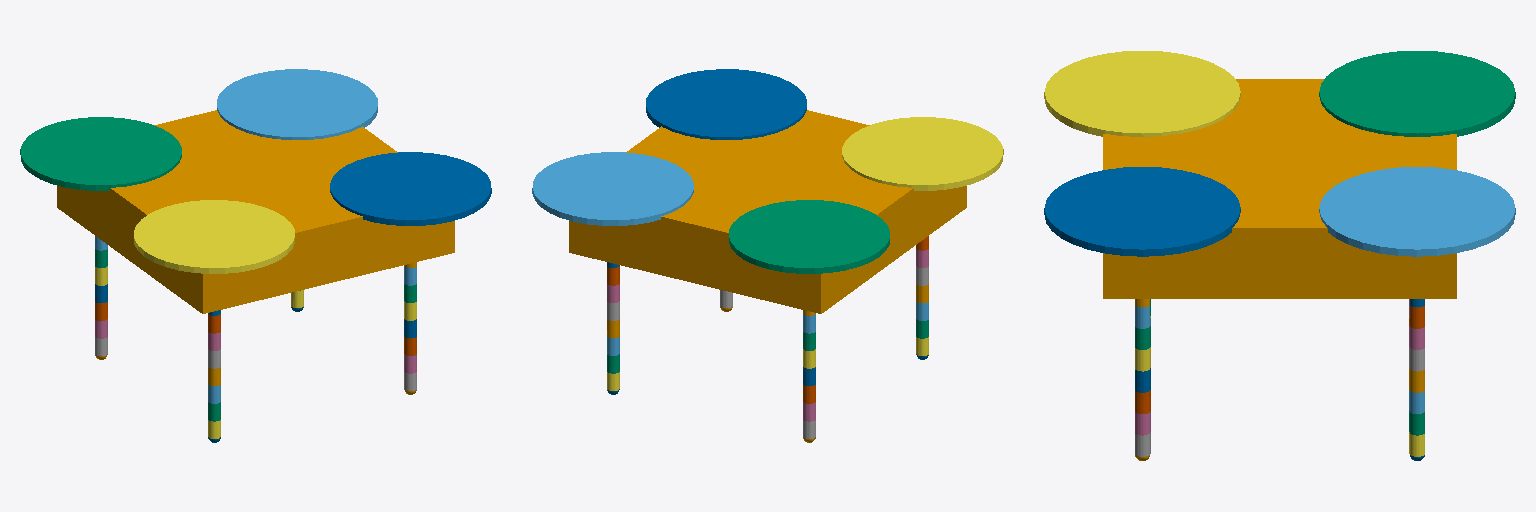
--- What the picture shows (computed from the rendered views, not written in the file) ---
Views: 3 orthographic renders of the robot side by side, from view 1: azimuth 30°, elevation 25°; view 2: azimuth 150°, elevation 25°; view 3: azimuth 270°, elevation 25°.
Robot: drone_w_arms — 57 links, 56 joints (40 revolute, 1 continuous, 3 prismatic, 12 fixed); root link world; default pose: every joint at zero.
Visible links, largest first — view 1: drone_base, drone_prop3, drone_prop4, drone_prop2, drone_prop1; view 2: drone_base, drone_prop2, drone_prop1, drone_prop3, drone_prop4; view 3: drone_base, drone_prop1, drone_prop4, drone_prop2, drone_prop3.
Boxes of the visible links, x1,y1,x2,y2 form: drone_base: (57, 110, 454, 313); drone_prop3: (134, 200, 294, 273); drone_prop4: (330, 152, 491, 225); drone_prop2: (20, 117, 181, 190); drone_prop1: (217, 69, 377, 139); drone_base: (569, 110, 966, 313); drone_prop2: (729, 200, 889, 273); drone_prop1: (532, 152, 693, 225); drone_prop3: (842, 117, 1003, 190); drone_prop4: (646, 69, 806, 139); drone_base: (1103, 79, 1456, 298); drone_prop1: (1319, 167, 1515, 256); drone_prop4: (1044, 167, 1240, 256); drone_prop2: (1319, 51, 1515, 136); drone_prop3: (1044, 51, 1240, 136).
Bounding box of the posed robot: 0.6 × 0.6 × 0.355 m (x, y, z).
Geometry: primitives only (box / cylinder / sphere), no mesh files.

The robot description file, URDF, robot "drone_w_arms":
<?xml version="1.0" ?>
<!-- =================================================================================== -->
<!-- |    This document was autogenerated by xacro from drone_w_arms.xacro             | -->
<!-- |    EDITING THIS FILE BY HAND IS NOT RECOMMENDED                                 | -->
<!-- =================================================================================== -->
<robot name="drone_w_arms">
  <link name="drone_base">
    <visual>
      <origin rpy="0 0 0" xyz="0 0 -0.010000000000000002"/>
      <geometry>
        <box size="0.45 0.45 0.1"/>
      </geometry>
    </visual>
    <collision>
      <origin rpy="0 0 0" xyz="0 0 -0.010000000000000002"/>
      <geometry>
        <box size="0.45 0.45 0.1"/>
      </geometry>
    </collision>
    <inertial>
      <origin rpy="0 0 0" xyz="0 0 0.225"/>
      <mass value="2.0"/>
      <inertia ixx="0.035416666666666666" ixy="0.0" ixz="0.0" iyy="0.035416666666666666" iyz="0.0" izz="0.0675"/>
    </inertial>
  </link>
  <link name="drone_prop1">
    <visual>
      <origin rpy="0 0 0" xyz="0 0 0"/>
      <geometry>
        <cylinder length="0.01" radius="0.125"/>
      </geometry>
    </visual>
    <collision>
      <origin rpy="0 0 0" xyz="0 0 0"/>
      <geometry>
        <cylinder length="0.01" radius="0.125"/>
      </geometry>
    </collision>
    <inertial>
      <origin rpy="0 0 0" xyz="0 0 0"/>
      <mass value="0"/>
      <inertia ixx="0.0" ixy="0.0" ixz="0.0" iyy="0.0" iyz="0.0" izz="0.0"/>
    </inertial>
  </link>
  <link name="drone_prop2">
    <visual>
      <origin rpy="0 0 0" xyz="0 0 0"/>
      <geometry>
        <cylinder length="0.01" radius="0.125"/>
      </geometry>
    </visual>
    <collision>
      <origin rpy="0 0 0" xyz="0 0 0"/>
      <geometry>
        <cylinder length="0.01" radius="0.125"/>
      </geometry>
    </collision>
    <inertial>
      <origin rpy="0 0 0" xyz="0 0 0"/>
      <mass value="0"/>
      <inertia ixx="0.0" ixy="0.0" ixz="0.0" iyy="0.0" iyz="0.0" izz="0.0"/>
    </inertial>
  </link>
  <link name="drone_prop3">
    <visual>
      <origin rpy="0 0 0" xyz="0 0 0"/>
      <geometry>
        <cylinder length="0.01" radius="0.125"/>
      </geometry>
    </visual>
    <collision>
      <origin rpy="0 0 0" xyz="0 0 0"/>
      <geometry>
        <cylinder length="0.01" radius="0.125"/>
      </geometry>
    </collision>
    <inertial>
      <origin rpy="0 0 0" xyz="0 0 0"/>
      <mass value="0"/>
      <inertia ixx="0.0" ixy="0.0" ixz="0.0" iyy="0.0" iyz="0.0" izz="0.0"/>
    </inertial>
  </link>
  <link name="drone_prop4">
    <visual>
      <origin rpy="0 0 0" xyz="0 0 0"/>
      <geometry>
        <cylinder length="0.01" radius="0.125"/>
      </geometry>
    </visual>
    <collision>
      <origin rpy="0 0 0" xyz="0 0 0"/>
      <geometry>
        <cylinder length="0.01" radius="0.125"/>
      </geometry>
    </collision>
    <inertial>
      <origin rpy="0 0 0" xyz="0 0 0"/>
      <mass value="0"/>
      <inertia ixx="0.0" ixy="0.0" ixz="0.0" iyy="0.0" iyz="0.0" izz="0.0"/>
    </inertial>
  </link>
  <joint name="drone_prop1joint" type="fixed">
    <parent link="drone_base"/>
    <child link="drone_prop1"/>
    <origin rpy="0 0 0" xyz="0.175 0.175 0.04"/>
    <!--<limit effort="3000" velocity="10000.0"/>
            <axis xyz="0 0 1" />-->
  </joint>
  <joint name="drone_prop2joint" type="fixed">
    <parent link="drone_base"/>
    <child link="drone_prop2"/>
    <origin rpy="0 0 0" xyz="-0.175 0.175 0.04"/>
    <!--<limit effort="3000" velocity="10000.0"/>
            <axis xyz="0 0 1" />-->
  </joint>
  <joint name="drone_prop3joint" type="fixed">
    <parent link="drone_base"/>
    <child link="drone_prop3"/>
    <origin rpy="0 0 0" xyz="-0.175 -0.175 0.04"/>
    <!--<limit effort="3000" velocity="10000.0"/>
            <axis xyz="0 0 1" />-->
  </joint>
  <joint name="drone_prop4joint" type="fixed">
    <parent link="drone_base"/>
    <child link="drone_prop4"/>
    <origin rpy="0 0 0" xyz="0.175 -0.175 0.04"/>
    <!--<limit effort="3000" velocity="10000.0"/>
            <axis xyz="0 0 1" />-->
  </joint>
  <!-- Define dummy links for motion generation -->
  <link name="world"/>
  <link name="p1"/>
  <link name="p2"/>
  <link name="p3"/>
  <joint name="x_pos" type="prismatic">
    <parent link="world"/>
    <child link="p1"/>
    <axis xyz="1 0 0"/>
    <dynamics damping="0" friction="0.0"/>
    <limit effort="10000" lower="-1000" upper="1000" velocity="100.0"/>
  </joint>
  <joint name="y_pos" type="prismatic">
    <parent link="p1"/>
    <child link="p2"/>
    <axis xyz="0 1 0"/>
    <dynamics damping="0" friction="0.0"/>
    <limit effort="10000" lower="-1000" upper="1000" velocity="100.0"/>
  </joint>
  <joint name="z_pos" type="prismatic">
    <parent link="p2"/>
    <child link="p3"/>
    <axis xyz="0 0 1"/>
    <dynamics damping="0" friction="0.0"/>
    <limit effort="10000" lower="-1000" upper="1000" velocity="100.0"/>
  </joint>
  <joint name="base_joint" type="continuous">
    <parent link="p3"/>
    <child link="drone_base"/>
    <axis xyz="0 0 1"/>
    <dynamics damping="0" friction="0.0"/>
    <limit effort="10000" lower="-1000" upper="1000" velocity="100.0"/>
  </joint>
  <!-- Create the base link -->
  <link name="arm1_base"/>
  <link name="arm1_link_1">
    <visual>
      <geometry>
        <cylinder length="0.03" radius="0.01"/>
      </geometry>
      <origin xyz="0 0 0.015"/>
    </visual>
    <collision>
      <geometry>
        <cylinder length="0.03" radius="0.01"/>
      </geometry>
      <origin xyz="0 0 0.015"/>
    </collision>
    <inertial>
      <mass value="0.09090909090909091"/>
      <inertia ixx="9.090909090909091e-06" ixy="0.0" ixz="0.0" iyy="9.090909090909091e-06" iyz="0.0" izz="4.5454545454545455e-06"/>
    </inertial>
  </link>
  <joint name="arm1_joint_1" type="revolute">
    <parent link="arm1_base"/>
    <child link="arm1_link_1"/>
    <axis xyz="1 0 0"/>
    <origin rpy="3.141 0 -0.7854" xyz=" 0.175  0.175 0"/>
    <limit effort="10.0" lower="-1.57" upper="1.57" velocity="1.0"/>
  </joint>
  <!-- Create the next link -->
  <link name="arm1_link_2">
    <visual>
      <geometry>
        <cylinder length="0.03" radius="0.01"/>
      </geometry>
      <origin xyz="0 0 0.015"/>
    </visual>
    <collision>
      <geometry>
        <cylinder length="0.03" radius="0.01"/>
      </geometry>
      <origin xyz="0 0 0.015"/>
    </collision>
    <inertial>
      <mass value="0.09090909090909091"/>
      <inertia ixx="9.090909090909091e-06" ixy="0.0" ixz="0.0" iyy="9.090909090909091e-06" iyz="0.0" izz="4.5454545454545455e-06"/>
    </inertial>
  </link>
  <!-- Create the revolute joint -->
  <joint name="arm1_joint_2" type="revolute">
    <parent link="arm1_link_1"/>
    <child link="arm1_link_2"/>
    <axis xyz="1 0 0"/>
    <origin rpy="0 0 0" xyz="0 0 0.03"/>
    <limit effort="10.0" lower="-1.57" upper="1.57" velocity="1.0"/>
  </joint>
  <!-- Create the next link -->
  <link name="arm1_link_3">
    <visual>
      <geometry>
        <cylinder length="0.03" radius="0.01"/>
      </geometry>
      <origin xyz="0 0 0.015"/>
    </visual>
    <collision>
      <geometry>
        <cylinder length="0.03" radius="0.01"/>
      </geometry>
      <origin xyz="0 0 0.015"/>
    </collision>
    <inertial>
      <mass value="0.09090909090909091"/>
      <inertia ixx="9.090909090909091e-06" ixy="0.0" ixz="0.0" iyy="9.090909090909091e-06" iyz="0.0" izz="4.5454545454545455e-06"/>
    </inertial>
  </link>
  <!-- Create the revolute joint -->
  <joint name="arm1_joint_3" type="revolute">
    <parent link="arm1_link_2"/>
    <child link="arm1_link_3"/>
    <axis xyz="1 0 0"/>
    <origin rpy="0 0 0" xyz="0 0 0.03"/>
    <limit effort="10.0" lower="-1.57" upper="1.57" velocity="1.0"/>
  </joint>
  <!-- Create the next link -->
  <link name="arm1_link_4">
    <visual>
      <geometry>
        <cylinder length="0.03" radius="0.01"/>
      </geometry>
      <origin xyz="0 0 0.015"/>
    </visual>
    <collision>
      <geometry>
        <cylinder length="0.03" radius="0.01"/>
      </geometry>
      <origin xyz="0 0 0.015"/>
    </collision>
    <inertial>
      <mass value="0.09090909090909091"/>
      <inertia ixx="9.090909090909091e-06" ixy="0.0" ixz="0.0" iyy="9.090909090909091e-06" iyz="0.0" izz="4.5454545454545455e-06"/>
    </inertial>
  </link>
  <!-- Create the revolute joint -->
  <joint name="arm1_joint_4" type="revolute">
    <parent link="arm1_link_3"/>
    <child link="arm1_link_4"/>
    <axis xyz="1 0 0"/>
    <origin rpy="0 0 0" xyz="0 0 0.03"/>
    <limit effort="10.0" lower="-1.57" upper="1.57" velocity="1.0"/>
  </joint>
  <!-- Create the next link -->
  <link name="arm1_link_5">
    <visual>
      <geometry>
        <cylinder length="0.03" radius="0.01"/>
      </geometry>
      <origin xyz="0 0 0.015"/>
    </visual>
    <collision>
      <geometry>
        <cylinder length="0.03" radius="0.01"/>
      </geometry>
      <origin xyz="0 0 0.015"/>
    </collision>
    <inertial>
      <mass value="0.09090909090909091"/>
      <inertia ixx="9.090909090909091e-06" ixy="0.0" ixz="0.0" iyy="9.090909090909091e-06" iyz="0.0" izz="4.5454545454545455e-06"/>
    </inertial>
  </link>
  <!-- Create the revolute joint -->
  <joint name="arm1_joint_5" type="revolute">
    <parent link="arm1_link_4"/>
    <child link="arm1_link_5"/>
    <axis xyz="1 0 0"/>
    <origin rpy="0 0 0" xyz="0 0 0.03"/>
    <limit effort="10.0" lower="-1.57" upper="1.57" velocity="1.0"/>
  </joint>
  <!-- Create the next link -->
  <link name="arm1_link_6">
    <visual>
      <geometry>
        <cylinder length="0.03" radius="0.01"/>
      </geometry>
      <origin xyz="0 0 0.015"/>
    </visual>
    <collision>
      <geometry>
        <cylinder length="0.03" radius="0.01"/>
      </geometry>
      <origin xyz="0 0 0.015"/>
    </collision>
    <inertial>
      <mass value="0.09090909090909091"/>
      <inertia ixx="9.090909090909091e-06" ixy="0.0" ixz="0.0" iyy="9.090909090909091e-06" iyz="0.0" izz="4.5454545454545455e-06"/>
    </inertial>
  </link>
  <!-- Create the revolute joint -->
  <joint name="arm1_joint_6" type="revolute">
    <parent link="arm1_link_5"/>
    <child link="arm1_link_6"/>
    <axis xyz="1 0 0"/>
    <origin rpy="0 0 0" xyz="0 0 0.03"/>
    <limit effort="10.0" lower="-1.57" upper="1.57" velocity="1.0"/>
  </joint>
  <!-- Create the next link -->
  <link name="arm1_link_7">
    <visual>
      <geometry>
        <cylinder length="0.03" radius="0.01"/>
      </geometry>
      <origin xyz="0 0 0.015"/>
    </visual>
    <collision>
      <geometry>
        <cylinder length="0.03" radius="0.01"/>
      </geometry>
      <origin xyz="0 0 0.015"/>
    </collision>
    <inertial>
      <mass value="0.09090909090909091"/>
      <inertia ixx="9.090909090909091e-06" ixy="0.0" ixz="0.0" iyy="9.090909090909091e-06" iyz="0.0" izz="4.5454545454545455e-06"/>
    </inertial>
  </link>
  <!-- Create the revolute joint -->
  <joint name="arm1_joint_7" type="revolute">
    <parent link="arm1_link_6"/>
    <child link="arm1_link_7"/>
    <axis xyz="1 0 0"/>
    <origin rpy="0 0 0" xyz="0 0 0.03"/>
    <limit effort="10.0" lower="-1.57" upper="1.57" velocity="1.0"/>
  </joint>
  <!-- Create the next link -->
  <link name="arm1_link_8">
    <visual>
      <geometry>
        <cylinder length="0.03" radius="0.01"/>
      </geometry>
      <origin xyz="0 0 0.015"/>
    </visual>
    <collision>
      <geometry>
        <cylinder length="0.03" radius="0.01"/>
      </geometry>
      <origin xyz="0 0 0.015"/>
    </collision>
    <inertial>
      <mass value="0.09090909090909091"/>
      <inertia ixx="9.090909090909091e-06" ixy="0.0" ixz="0.0" iyy="9.090909090909091e-06" iyz="0.0" izz="4.5454545454545455e-06"/>
    </inertial>
  </link>
  <!-- Create the revolute joint -->
  <joint name="arm1_joint_8" type="revolute">
    <parent link="arm1_link_7"/>
    <child link="arm1_link_8"/>
    <axis xyz="1 0 0"/>
    <origin rpy="0 0 0" xyz="0 0 0.03"/>
    <limit effort="10.0" lower="-1.57" upper="1.57" velocity="1.0"/>
  </joint>
  <!-- Create the next link -->
  <link name="arm1_link_9">
    <visual>
      <geometry>
        <cylinder length="0.03" radius="0.01"/>
      </geometry>
      <origin xyz="0 0 0.015"/>
    </visual>
    <collision>
      <geometry>
        <cylinder length="0.03" radius="0.01"/>
      </geometry>
      <origin xyz="0 0 0.015"/>
    </collision>
    <inertial>
      <mass value="0.09090909090909091"/>
      <inertia ixx="9.090909090909091e-06" ixy="0.0" ixz="0.0" iyy="9.090909090909091e-06" iyz="0.0" izz="4.5454545454545455e-06"/>
    </inertial>
  </link>
  <!-- Create the revolute joint -->
  <joint name="arm1_joint_9" type="revolute">
    <parent link="arm1_link_8"/>
    <child link="arm1_link_9"/>
    <axis xyz="1 0 0"/>
    <origin rpy="0 0 0" xyz="0 0 0.03"/>
    <limit effort="10.0" lower="-1.57" upper="1.57" velocity="1.0"/>
  </joint>
  <!-- Create the next link -->
  <link name="arm1_link_10">
    <visual>
      <geometry>
        <cylinder length="0.03" radius="0.01"/>
      </geometry>
      <origin xyz="0 0 0.015"/>
    </visual>
    <collision>
      <geometry>
        <cylinder length="0.03" radius="0.01"/>
      </geometry>
      <origin xyz="0 0 0.015"/>
    </collision>
    <inertial>
      <mass value="0.09090909090909091"/>
      <inertia ixx="9.090909090909091e-06" ixy="0.0" ixz="0.0" iyy="9.090909090909091e-06" iyz="0.0" izz="4.5454545454545455e-06"/>
    </inertial>
  </link>
  <!-- Create the revolute joint -->
  <joint name="arm1_joint_10" type="revolute">
    <parent link="arm1_link_9"/>
    <child link="arm1_link_10"/>
    <axis xyz="1 0 0"/>
    <origin rpy="0 0 0" xyz="0 0 0.03"/>
    <limit effort="10.0" lower="-1.57" upper="1.57" velocity="1.0"/>
  </joint>
  <link name="arm1_sphere">
    <visual>
      <geometry>
        <sphere radius="0.01"/>
      </geometry>
      <origin xyz="0 0 0.01"/>
    </visual>
    <collision>
      <geometry>
        <sphere radius="0.01"/>
      </geometry>
      <origin xyz="0 0 0.01"/>
    </collision>
    <inertial>
      <mass value="0.09090909090909091"/>
      <inertia ixx="3.6363636363636366e-06" ixy="0.0" ixz="0.0" iyy="3.6363636363636366e-06" iyz="0.0" izz="3.6363636363636366e-06"/>
    </inertial>
  </link>
  <joint name="arm1_fixed_joint_sphere" type="fixed">
    <parent link="arm1_link_10"/>
    <child link="arm1_sphere"/>
    <origin rpy="0 0 0" xyz="0 0 0.019999999999999997"/>
  </joint>
  <!-- Create the base link -->
  <link name="arm2_base"/>
  <link name="arm2_link_1">
    <visual>
      <geometry>
        <cylinder length="0.03" radius="0.01"/>
      </geometry>
      <origin xyz="0 0 0.015"/>
    </visual>
    <collision>
      <geometry>
        <cylinder length="0.03" radius="0.01"/>
      </geometry>
      <origin xyz="0 0 0.015"/>
    </collision>
    <inertial>
      <mass value="0.09090909090909091"/>
      <inertia ixx="9.090909090909091e-06" ixy="0.0" ixz="0.0" iyy="9.090909090909091e-06" iyz="0.0" izz="4.5454545454545455e-06"/>
    </inertial>
  </link>
  <joint name="arm2_joint_1" type="revolute">
    <parent link="arm2_base"/>
    <child link="arm2_link_1"/>
    <axis xyz="1 0 0"/>
    <origin rpy="3.141 0 -2.3562" xyz=" 0.175 -0.175 0"/>
    <limit effort="10.0" lower="-1.57" upper="1.57" velocity="1.0"/>
  </joint>
  <!-- Create the next link -->
  <link name="arm2_link_2">
    <visual>
      <geometry>
        <cylinder length="0.03" radius="0.01"/>
      </geometry>
      <origin xyz="0 0 0.015"/>
    </visual>
    <collision>
      <geometry>
        <cylinder length="0.03" radius="0.01"/>
      </geometry>
      <origin xyz="0 0 0.015"/>
    </collision>
    <inertial>
      <mass value="0.09090909090909091"/>
      <inertia ixx="9.090909090909091e-06" ixy="0.0" ixz="0.0" iyy="9.090909090909091e-06" iyz="0.0" izz="4.5454545454545455e-06"/>
    </inertial>
  </link>
  <!-- Create the revolute joint -->
  <joint name="arm2_joint_2" type="revolute">
    <parent link="arm2_link_1"/>
    <child link="arm2_link_2"/>
    <axis xyz="1 0 0"/>
    <origin rpy="0 0 0" xyz="0 0 0.03"/>
    <limit effort="10.0" lower="-1.57" upper="1.57" velocity="1.0"/>
  </joint>
  <!-- Create the next link -->
  <link name="arm2_link_3">
    <visual>
      <geometry>
        <cylinder length="0.03" radius="0.01"/>
      </geometry>
      <origin xyz="0 0 0.015"/>
    </visual>
    <collision>
      <geometry>
        <cylinder length="0.03" radius="0.01"/>
      </geometry>
      <origin xyz="0 0 0.015"/>
    </collision>
    <inertial>
      <mass value="0.09090909090909091"/>
      <inertia ixx="9.090909090909091e-06" ixy="0.0" ixz="0.0" iyy="9.090909090909091e-06" iyz="0.0" izz="4.5454545454545455e-06"/>
    </inertial>
  </link>
  <!-- Create the revolute joint -->
  <joint name="arm2_joint_3" type="revolute">
    <parent link="arm2_link_2"/>
    <child link="arm2_link_3"/>
    <axis xyz="1 0 0"/>
    <origin rpy="0 0 0" xyz="0 0 0.03"/>
    <limit effort="10.0" lower="-1.57" upper="1.57" velocity="1.0"/>
  </joint>
  <!-- Create the next link -->
  <link name="arm2_link_4">
    <visual>
      <geometry>
        <cylinder length="0.03" radius="0.01"/>
      </geometry>
      <origin xyz="0 0 0.015"/>
    </visual>
    <collision>
      <geometry>
        <cylinder length="0.03" radius="0.01"/>
      </geometry>
      <origin xyz="0 0 0.015"/>
    </collision>
    <inertial>
      <mass value="0.09090909090909091"/>
      <inertia ixx="9.090909090909091e-06" ixy="0.0" ixz="0.0" iyy="9.090909090909091e-06" iyz="0.0" izz="4.5454545454545455e-06"/>
    </inertial>
  </link>
  <!-- Create the revolute joint -->
  <joint name="arm2_joint_4" type="revolute">
    <parent link="arm2_link_3"/>
    <child link="arm2_link_4"/>
    <axis xyz="1 0 0"/>
    <origin rpy="0 0 0" xyz="0 0 0.03"/>
    <limit effort="10.0" lower="-1.57" upper="1.57" velocity="1.0"/>
  </joint>
  <!-- Create the next link -->
  <link name="arm2_link_5">
    <visual>
      <geometry>
        <cylinder length="0.03" radius="0.01"/>
      </geometry>
      <origin xyz="0 0 0.015"/>
    </visual>
    <collision>
      <geometry>
        <cylinder length="0.03" radius="0.01"/>
      </geometry>
      <origin xyz="0 0 0.015"/>
    </collision>
    <inertial>
      <mass value="0.09090909090909091"/>
      <inertia ixx="9.090909090909091e-06" ixy="0.0" ixz="0.0" iyy="9.090909090909091e-06" iyz="0.0" izz="4.5454545454545455e-06"/>
    </inertial>
  </link>
  <!-- Create the revolute joint -->
  <joint name="arm2_joint_5" type="revolute">
    <parent link="arm2_link_4"/>
    <child link="arm2_link_5"/>
    <axis xyz="1 0 0"/>
    <origin rpy="0 0 0" xyz="0 0 0.03"/>
    <limit effort="10.0" lower="-1.57" upper="1.57" velocity="1.0"/>
  </joint>
  <!-- Create the next link -->
  <link name="arm2_link_6">
    <visual>
      <geometry>
        <cylinder length="0.03" radius="0.01"/>
      </geometry>
      <origin xyz="0 0 0.015"/>
    </visual>
    <collision>
      <geometry>
        <cylinder length="0.03" radius="0.01"/>
      </geometry>
      <origin xyz="0 0 0.015"/>
    </collision>
    <inertial>
      <mass value="0.09090909090909091"/>
      <inertia ixx="9.090909090909091e-06" ixy="0.0" ixz="0.0" iyy="9.090909090909091e-06" iyz="0.0" izz="4.5454545454545455e-06"/>
    </inertial>
  </link>
  <!-- Create the revolute joint -->
  <joint name="arm2_joint_6" type="revolute">
    <parent link="arm2_link_5"/>
    <child link="arm2_link_6"/>
    <axis xyz="1 0 0"/>
    <origin rpy="0 0 0" xyz="0 0 0.03"/>
    <limit effort="10.0" lower="-1.57" upper="1.57" velocity="1.0"/>
  </joint>
  <!-- Create the next link -->
  <link name="arm2_link_7">
    <visual>
      <geometry>
        <cylinder length="0.03" radius="0.01"/>
      </geometry>
      <origin xyz="0 0 0.015"/>
    </visual>
    <collision>
      <geometry>
        <cylinder length="0.03" radius="0.01"/>
      </geometry>
      <origin xyz="0 0 0.015"/>
    </collision>
    <inertial>
      <mass value="0.09090909090909091"/>
      <inertia ixx="9.090909090909091e-06" ixy="0.0" ixz="0.0" iyy="9.090909090909091e-06" iyz="0.0" izz="4.5454545454545455e-06"/>
    </inertial>
  </link>
  <!-- Create the revolute joint -->
  <joint name="arm2_joint_7" type="revolute">
    <parent link="arm2_link_6"/>
    <child link="arm2_link_7"/>
    <axis xyz="1 0 0"/>
    <origin rpy="0 0 0" xyz="0 0 0.03"/>
    <limit effort="10.0" lower="-1.57" upper="1.57" velocity="1.0"/>
  </joint>
  <!-- Create the next link -->
  <link name="arm2_link_8">
    <visual>
      <geometry>
        <cylinder length="0.03" radius="0.01"/>
      </geometry>
      <origin xyz="0 0 0.015"/>
    </visual>
    <collision>
      <geometry>
        <cylinder length="0.03" radius="0.01"/>
      </geometry>
      <origin xyz="0 0 0.015"/>
    </collision>
    <inertial>
      <mass value="0.09090909090909091"/>
      <inertia ixx="9.090909090909091e-06" ixy="0.0" ixz="0.0" iyy="9.090909090909091e-06" iyz="0.0" izz="4.5454545454545455e-06"/>
    </inertial>
  </link>
  <!-- Create the revolute joint -->
  <joint name="arm2_joint_8" type="revolute">
    <parent link="arm2_link_7"/>
    <child link="arm2_link_8"/>
    <axis xyz="1 0 0"/>
    <origin rpy="0 0 0" xyz="0 0 0.03"/>
    <limit effort="10.0" lower="-1.57" upper="1.57" velocity="1.0"/>
  </joint>
  <!-- Create the next link -->
  <link name="arm2_link_9">
    <visual>
      <geometry>
        <cylinder length="0.03" radius="0.01"/>
      </geometry>
      <origin xyz="0 0 0.015"/>
    </visual>
    <collision>
      <geometry>
        <cylinder length="0.03" radius="0.01"/>
      </geometry>
      <origin xyz="0 0 0.015"/>
    </collision>
    <inertial>
      <mass value="0.09090909090909091"/>
      <inertia ixx="9.090909090909091e-06" ixy="0.0" ixz="0.0" iyy="9.090909090909091e-06" iyz="0.0" izz="4.5454545454545455e-06"/>
    </inertial>
  </link>
  <!-- Create the revolute joint -->
  <joint name="arm2_joint_9" type="revolute">
    <parent link="arm2_link_8"/>
    <child link="arm2_link_9"/>
    <axis xyz="1 0 0"/>
    <origin rpy="0 0 0" xyz="0 0 0.03"/>
    <limit effort="10.0" lower="-1.57" upper="1.57" velocity="1.0"/>
  </joint>
  <!-- Create the next link -->
  <link name="arm2_link_10">
    <visual>
      <geometry>
        <cylinder length="0.03" radius="0.01"/>
      </geometry>
      <origin xyz="0 0 0.015"/>
    </visual>
    <collision>
      <geometry>
        <cylinder length="0.03" radius="0.01"/>
      </geometry>
      <origin xyz="0 0 0.015"/>
    </collision>
    <inertial>
      <mass value="0.09090909090909091"/>
      <inertia ixx="9.090909090909091e-06" ixy="0.0" ixz="0.0" iyy="9.090909090909091e-06" iyz="0.0" izz="4.5454545454545455e-06"/>
    </inertial>
  </link>
  <!-- Create the revolute joint -->
  <joint name="arm2_joint_10" type="revolute">
    <parent link="arm2_link_9"/>
    <child link="arm2_link_10"/>
    <axis xyz="1 0 0"/>
    <origin rpy="0 0 0" xyz="0 0 0.03"/>
    <limit effort="10.0" lower="-1.57" upper="1.57" velocity="1.0"/>
  </joint>
  <link name="arm2_sphere">
    <visual>
      <geometry>
        <sphere radius="0.01"/>
      </geometry>
      <origin xyz="0 0 0.01"/>
    </visual>
    <collision>
      <geometry>
        <sphere radius="0.01"/>
      </geometry>
      <origin xyz="0 0 0.01"/>
    </collision>
    <inertial>
      <mass value="0.09090909090909091"/>
      <inertia ixx="3.6363636363636366e-06" ixy="0.0" ixz="0.0" iyy="3.6363636363636366e-06" iyz="0.0" izz="3.6363636363636366e-06"/>
    </inertial>
  </link>
  <joint name="arm2_fixed_joint_sphere" type="fixed">
    <parent link="arm2_link_10"/>
    <child link="arm2_sphere"/>
    <origin rpy="0 0 0" xyz="0 0 0.019999999999999997"/>
  </joint>
  <!-- Create the base link -->
  <link name="arm3_base"/>
  <link name="arm3_link_1">
    <visual>
      <geometry>
        <cylinder length="0.03" radius="0.01"/>
      </geometry>
      <origin xyz="0 0 0.015"/>
    </visual>
    <collision>
      <geometry>
        <cylinder length="0.03" radius="0.01"/>
      </geometry>
      <origin xyz="0 0 0.015"/>
    </collision>
    <inertial>
      <mass value="0.09090909090909091"/>
      <inertia ixx="9.090909090909091e-06" ixy="0.0" ixz="0.0" iyy="9.090909090909091e-06" iyz="0.0" izz="4.5454545454545455e-06"/>
    </inertial>
  </link>
  <joint name="arm3_joint_1" type="revolute">
    <parent link="arm3_base"/>
    <child link="arm3_link_1"/>
    <axis xyz="1 0 0"/>
    <origin rpy="3.141 0 2.3562" xyz="-0.175 -0.175 0"/>
    <limit effort="10.0" lower="-1.57" upper="1.57" velocity="1.0"/>
  </joint>
  <!-- Create the next link -->
  <link name="arm3_link_2">
    <visual>
      <geometry>
        <cylinder length="0.03" radius="0.01"/>
      </geometry>
      <origin xyz="0 0 0.015"/>
    </visual>
    <collision>
      <geometry>
        <cylinder length="0.03" radius="0.01"/>
      </geometry>
      <origin xyz="0 0 0.015"/>
    </collision>
    <inertial>
      <mass value="0.09090909090909091"/>
      <inertia ixx="9.090909090909091e-06" ixy="0.0" ixz="0.0" iyy="9.090909090909091e-06" iyz="0.0" izz="4.5454545454545455e-06"/>
    </inertial>
  </link>
  <!-- Create the revolute joint -->
  <joint name="arm3_joint_2" type="revolute">
    <parent link="arm3_link_1"/>
    <child link="arm3_link_2"/>
    <axis xyz="1 0 0"/>
    <origin rpy="0 0 0" xyz="0 0 0.03"/>
    <limit effort="10.0" lower="-1.57" upper="1.57" velocity="1.0"/>
  </joint>
  <!-- Create the next link -->
  <link name="arm3_link_3">
    <visual>
      <geometry>
        <cylinder length="0.03" radius="0.01"/>
      </geometry>
      <origin xyz="0 0 0.015"/>
    </visual>
    <collision>
      <geometry>
        <cylinder length="0.03" radius="0.01"/>
      </geometry>
      <origin xyz="0 0 0.015"/>
    </collision>
    <inertial>
      <mass value="0.09090909090909091"/>
      <inertia ixx="9.090909090909091e-06" ixy="0.0" ixz="0.0" iyy="9.090909090909091e-06" iyz="0.0" izz="4.5454545454545455e-06"/>
    </inertial>
  </link>
  <!-- Create the revolute joint -->
  <joint name="arm3_joint_3" type="revolute">
    <parent link="arm3_link_2"/>
    <child link="arm3_link_3"/>
    <axis xyz="1 0 0"/>
    <origin rpy="0 0 0" xyz="0 0 0.03"/>
    <limit effort="10.0" lower="-1.57" upper="1.57" velocity="1.0"/>
  </joint>
  <!-- Create the next link -->
  <link name="arm3_link_4">
    <visual>
      <geometry>
        <cylinder length="0.03" radius="0.01"/>
      </geometry>
      <origin xyz="0 0 0.015"/>
    </visual>
    <collision>
      <geometry>
        <cylinder length="0.03" radius="0.01"/>
      </geometry>
      <origin xyz="0 0 0.015"/>
    </collision>
    <inertial>
      <mass value="0.09090909090909091"/>
      <inertia ixx="9.090909090909091e-06" ixy="0.0" ixz="0.0" iyy="9.090909090909091e-06" iyz="0.0" izz="4.5454545454545455e-06"/>
    </inertial>
  </link>
  <!-- Create the revolute joint -->
  <joint name="arm3_joint_4" type="revolute">
    <parent link="arm3_link_3"/>
    <child link="arm3_link_4"/>
    <axis xyz="1 0 0"/>
    <origin rpy="0 0 0" xyz="0 0 0.03"/>
    <limit effort="10.0" lower="-1.57" upper="1.57" velocity="1.0"/>
  </joint>
  <!-- Create the next link -->
  <link name="arm3_link_5">
    <visual>
      <geometry>
        <cylinder length="0.03" radius="0.01"/>
      </geometry>
      <origin xyz="0 0 0.015"/>
    </visual>
    <collision>
      <geometry>
        <cylinder length="0.03" radius="0.01"/>
      </geometry>
      <origin xyz="0 0 0.015"/>
    </collision>
    <inertial>
      <mass value="0.09090909090909091"/>
      <inertia ixx="9.090909090909091e-06" ixy="0.0" ixz="0.0" iyy="9.090909090909091e-06" iyz="0.0" izz="4.5454545454545455e-06"/>
    </inertial>
  </link>
  <!-- Create the revolute joint -->
  <joint name="arm3_joint_5" type="revolute">
    <parent link="arm3_link_4"/>
    <child link="arm3_link_5"/>
    <axis xyz="1 0 0"/>
    <origin rpy="0 0 0" xyz="0 0 0.03"/>
    <limit effort="10.0" lower="-1.57" upper="1.57" velocity="1.0"/>
  </joint>
  <!-- Create the next link -->
  <link name="arm3_link_6">
    <visual>
      <geometry>
        <cylinder length="0.03" radius="0.01"/>
      </geometry>
      <origin xyz="0 0 0.015"/>
    </visual>
    <collision>
      <geometry>
        <cylinder length="0.03" radius="0.01"/>
      </geometry>
      <origin xyz="0 0 0.015"/>
    </collision>
    <inertial>
      <mass value="0.09090909090909091"/>
      <inertia ixx="9.090909090909091e-06" ixy="0.0" ixz="0.0" iyy="9.090909090909091e-06" iyz="0.0" izz="4.5454545454545455e-06"/>
    </inertial>
  </link>
  <!-- Create the revolute joint -->
  <joint name="arm3_joint_6" type="revolute">
    <parent link="arm3_link_5"/>
    <child link="arm3_link_6"/>
    <axis xyz="1 0 0"/>
    <origin rpy="0 0 0" xyz="0 0 0.03"/>
    <limit effort="10.0" lower="-1.57" upper="1.57" velocity="1.0"/>
  </joint>
  <!-- Create the next link -->
  <link name="arm3_link_7">
    <visual>
      <geometry>
        <cylinder length="0.03" radius="0.01"/>
      </geometry>
      <origin xyz="0 0 0.015"/>
    </visual>
    <collision>
      <geometry>
        <cylinder length="0.03" radius="0.01"/>
      </geometry>
      <origin xyz="0 0 0.015"/>
    </collision>
    <inertial>
      <mass value="0.09090909090909091"/>
      <inertia ixx="9.090909090909091e-06" ixy="0.0" ixz="0.0" iyy="9.090909090909091e-06" iyz="0.0" izz="4.5454545454545455e-06"/>
    </inertial>
  </link>
  <!-- Create the revolute joint -->
  <joint name="arm3_joint_7" type="revolute">
    <parent link="arm3_link_6"/>
    <child link="arm3_link_7"/>
    <axis xyz="1 0 0"/>
    <origin rpy="0 0 0" xyz="0 0 0.03"/>
    <limit effort="10.0" lower="-1.57" upper="1.57" velocity="1.0"/>
  </joint>
  <!-- Create the next link -->
  <link name="arm3_link_8">
    <visual>
      <geometry>
        <cylinder length="0.03" radius="0.01"/>
      </geometry>
      <origin xyz="0 0 0.015"/>
    </visual>
    <collision>
      <geometry>
        <cylinder length="0.03" radius="0.01"/>
      </geometry>
      <origin xyz="0 0 0.015"/>
    </collision>
    <inertial>
      <mass value="0.09090909090909091"/>
      <inertia ixx="9.090909090909091e-06" ixy="0.0" ixz="0.0" iyy="9.090909090909091e-06" iyz="0.0" izz="4.5454545454545455e-06"/>
    </inertial>
  </link>
  <!-- Create the revolute joint -->
  <joint name="arm3_joint_8" type="revolute">
    <parent link="arm3_link_7"/>
    <child link="arm3_link_8"/>
    <axis xyz="1 0 0"/>
    <origin rpy="0 0 0" xyz="0 0 0.03"/>
    <limit effort="10.0" lower="-1.57" upper="1.57" velocity="1.0"/>
  </joint>
  <!-- Create the next link -->
  <link name="arm3_link_9">
    <visual>
      <geometry>
        <cylinder length="0.03" radius="0.01"/>
      </geometry>
      <origin xyz="0 0 0.015"/>
    </visual>
    <collision>
      <geometry>
        <cylinder length="0.03" radius="0.01"/>
      </geometry>
      <origin xyz="0 0 0.015"/>
    </collision>
    <inertial>
      <mass value="0.09090909090909091"/>
      <inertia ixx="9.090909090909091e-06" ixy="0.0" ixz="0.0" iyy="9.090909090909091e-06" iyz="0.0" izz="4.5454545454545455e-06"/>
    </inertial>
  </link>
  <!-- Create the revolute joint -->
  <joint name="arm3_joint_9" type="revolute">
    <parent link="arm3_link_8"/>
    <child link="arm3_link_9"/>
    <axis xyz="1 0 0"/>
    <origin rpy="0 0 0" xyz="0 0 0.03"/>
    <limit effort="10.0" lower="-1.57" upper="1.57" velocity="1.0"/>
  </joint>
  <!-- Create the next link -->
  <link name="arm3_link_10">
    <visual>
      <geometry>
        <cylinder length="0.03" radius="0.01"/>
      </geometry>
      <origin xyz="0 0 0.015"/>
    </visual>
    <collision>
      <geometry>
        <cylinder length="0.03" radius="0.01"/>
      </geometry>
      <origin xyz="0 0 0.015"/>
    </collision>
    <inertial>
      <mass value="0.09090909090909091"/>
      <inertia ixx="9.090909090909091e-06" ixy="0.0" ixz="0.0" iyy="9.090909090909091e-06" iyz="0.0" izz="4.5454545454545455e-06"/>
    </inertial>
  </link>
  <!-- Create the revolute joint -->
  <joint name="arm3_joint_10" type="revolute">
    <parent link="arm3_link_9"/>
    <child link="arm3_link_10"/>
    <axis xyz="1 0 0"/>
    <origin rpy="0 0 0" xyz="0 0 0.03"/>
    <limit effort="10.0" lower="-1.57" upper="1.57" velocity="1.0"/>
  </joint>
  <link name="arm3_sphere">
    <visual>
      <geometry>
        <sphere radius="0.01"/>
      </geometry>
      <origin xyz="0 0 0.01"/>
    </visual>
    <collision>
      <geometry>
        <sphere radius="0.01"/>
      </geometry>
      <origin xyz="0 0 0.01"/>
    </collision>
    <inertial>
      <mass value="0.09090909090909091"/>
      <inertia ixx="3.6363636363636366e-06" ixy="0.0" ixz="0.0" iyy="3.6363636363636366e-06" iyz="0.0" izz="3.6363636363636366e-06"/>
    </inertial>
  </link>
  <joint name="arm3_fixed_joint_sphere" type="fixed">
    <parent link="arm3_link_10"/>
    <child link="arm3_sphere"/>
    <origin rpy="0 0 0" xyz="0 0 0.019999999999999997"/>
  </joint>
  <!-- Create the base link -->
  <link name="arm4_base"/>
  <link name="arm4_link_1">
    <visual>
      <geometry>
        <cylinder length="0.03" radius="0.01"/>
      </geometry>
      <origin xyz="0 0 0.015"/>
    </visual>
    <collision>
      <geometry>
        <cylinder length="0.03" radius="0.01"/>
      </geometry>
      <origin xyz="0 0 0.015"/>
    </collision>
    <inertial>
      <mass value="0.09090909090909091"/>
      <inertia ixx="9.090909090909091e-06" ixy="0.0" ixz="0.0" iyy="9.090909090909091e-06" iyz="0.0" izz="4.5454545454545455e-06"/>
    </inertial>
  </link>
  <joint name="arm4_joint_1" type="revolute">
    <parent link="arm4_base"/>
    <child link="arm4_link_1"/>
    <axis xyz="1 0 0"/>
    <origin rpy="3.141 0 0.7854" xyz="-0.175  0.175 0"/>
    <limit effort="10.0" lower="-1.57" upper="1.57" velocity="1.0"/>
  </joint>
  <!-- Create the next link -->
  <link name="arm4_link_2">
    <visual>
      <geometry>
        <cylinder length="0.03" radius="0.01"/>
      </geometry>
      <origin xyz="0 0 0.015"/>
    </visual>
    <collision>
      <geometry>
        <cylinder length="0.03" radius="0.01"/>
      </geometry>
      <origin xyz="0 0 0.015"/>
    </collision>
    <inertial>
      <mass value="0.09090909090909091"/>
      <inertia ixx="9.090909090909091e-06" ixy="0.0" ixz="0.0" iyy="9.090909090909091e-06" iyz="0.0" izz="4.5454545454545455e-06"/>
    </inertial>
  </link>
  <!-- Create the revolute joint -->
  <joint name="arm4_joint_2" type="revolute">
    <parent link="arm4_link_1"/>
    <child link="arm4_link_2"/>
    <axis xyz="1 0 0"/>
    <origin rpy="0 0 0" xyz="0 0 0.03"/>
    <limit effort="10.0" lower="-1.57" upper="1.57" velocity="1.0"/>
  </joint>
  <!-- Create the next link -->
  <link name="arm4_link_3">
    <visual>
      <geometry>
        <cylinder length="0.03" radius="0.01"/>
      </geometry>
      <origin xyz="0 0 0.015"/>
    </visual>
    <collision>
      <geometry>
        <cylinder length="0.03" radius="0.01"/>
      </geometry>
      <origin xyz="0 0 0.015"/>
    </collision>
    <inertial>
      <mass value="0.09090909090909091"/>
      <inertia ixx="9.090909090909091e-06" ixy="0.0" ixz="0.0" iyy="9.090909090909091e-06" iyz="0.0" izz="4.5454545454545455e-06"/>
    </inertial>
  </link>
  <!-- Create the revolute joint -->
  <joint name="arm4_joint_3" type="revolute">
    <parent link="arm4_link_2"/>
    <child link="arm4_link_3"/>
    <axis xyz="1 0 0"/>
    <origin rpy="0 0 0" xyz="0 0 0.03"/>
    <limit effort="10.0" lower="-1.57" upper="1.57" velocity="1.0"/>
  </joint>
  <!-- Create the next link -->
  <link name="arm4_link_4">
    <visual>
      <geometry>
        <cylinder length="0.03" radius="0.01"/>
      </geometry>
      <origin xyz="0 0 0.015"/>
    </visual>
    <collision>
      <geometry>
        <cylinder length="0.03" radius="0.01"/>
      </geometry>
      <origin xyz="0 0 0.015"/>
    </collision>
    <inertial>
      <mass value="0.09090909090909091"/>
      <inertia ixx="9.090909090909091e-06" ixy="0.0" ixz="0.0" iyy="9.090909090909091e-06" iyz="0.0" izz="4.5454545454545455e-06"/>
    </inertial>
  </link>
  <!-- Create the revolute joint -->
  <joint name="arm4_joint_4" type="revolute">
    <parent link="arm4_link_3"/>
    <child link="arm4_link_4"/>
    <axis xyz="1 0 0"/>
    <origin rpy="0 0 0" xyz="0 0 0.03"/>
    <limit effort="10.0" lower="-1.57" upper="1.57" velocity="1.0"/>
  </joint>
  <!-- Create the next link -->
  <link name="arm4_link_5">
    <visual>
      <geometry>
        <cylinder length="0.03" radius="0.01"/>
      </geometry>
      <origin xyz="0 0 0.015"/>
    </visual>
    <collision>
      <geometry>
        <cylinder length="0.03" radius="0.01"/>
      </geometry>
      <origin xyz="0 0 0.015"/>
    </collision>
    <inertial>
      <mass value="0.09090909090909091"/>
      <inertia ixx="9.090909090909091e-06" ixy="0.0" ixz="0.0" iyy="9.090909090909091e-06" iyz="0.0" izz="4.5454545454545455e-06"/>
    </inertial>
  </link>
  <!-- Create the revolute joint -->
  <joint name="arm4_joint_5" type="revolute">
    <parent link="arm4_link_4"/>
    <child link="arm4_link_5"/>
    <axis xyz="1 0 0"/>
    <origin rpy="0 0 0" xyz="0 0 0.03"/>
    <limit effort="10.0" lower="-1.57" upper="1.57" velocity="1.0"/>
  </joint>
  <!-- Create the next link -->
  <link name="arm4_link_6">
    <visual>
      <geometry>
        <cylinder length="0.03" radius="0.01"/>
      </geometry>
      <origin xyz="0 0 0.015"/>
    </visual>
    <collision>
      <geometry>
        <cylinder length="0.03" radius="0.01"/>
      </geometry>
      <origin xyz="0 0 0.015"/>
    </collision>
    <inertial>
      <mass value="0.09090909090909091"/>
      <inertia ixx="9.090909090909091e-06" ixy="0.0" ixz="0.0" iyy="9.090909090909091e-06" iyz="0.0" izz="4.5454545454545455e-06"/>
    </inertial>
  </link>
  <!-- Create the revolute joint -->
  <joint name="arm4_joint_6" type="revolute">
    <parent link="arm4_link_5"/>
    <child link="arm4_link_6"/>
    <axis xyz="1 0 0"/>
    <origin rpy="0 0 0" xyz="0 0 0.03"/>
    <limit effort="10.0" lower="-1.57" upper="1.57" velocity="1.0"/>
  </joint>
  <!-- Create the next link -->
  <link name="arm4_link_7">
    <visual>
      <geometry>
        <cylinder length="0.03" radius="0.01"/>
      </geometry>
      <origin xyz="0 0 0.015"/>
    </visual>
    <collision>
      <geometry>
        <cylinder length="0.03" radius="0.01"/>
      </geometry>
      <origin xyz="0 0 0.015"/>
    </collision>
    <inertial>
      <mass value="0.09090909090909091"/>
      <inertia ixx="9.090909090909091e-06" ixy="0.0" ixz="0.0" iyy="9.090909090909091e-06" iyz="0.0" izz="4.5454545454545455e-06"/>
    </inertial>
  </link>
  <!-- Create the revolute joint -->
  <joint name="arm4_joint_7" type="revolute">
    <parent link="arm4_link_6"/>
    <child link="arm4_link_7"/>
    <axis xyz="1 0 0"/>
    <origin rpy="0 0 0" xyz="0 0 0.03"/>
    <limit effort="10.0" lower="-1.57" upper="1.57" velocity="1.0"/>
  </joint>
  <!-- Create the next link -->
  <link name="arm4_link_8">
    <visual>
      <geometry>
        <cylinder length="0.03" radius="0.01"/>
      </geometry>
      <origin xyz="0 0 0.015"/>
    </visual>
    <collision>
      <geometry>
        <cylinder length="0.03" radius="0.01"/>
      </geometry>
      <origin xyz="0 0 0.015"/>
    </collision>
    <inertial>
      <mass value="0.09090909090909091"/>
      <inertia ixx="9.090909090909091e-06" ixy="0.0" ixz="0.0" iyy="9.090909090909091e-06" iyz="0.0" izz="4.5454545454545455e-06"/>
    </inertial>
  </link>
  <!-- Create the revolute joint -->
  <joint name="arm4_joint_8" type="revolute">
    <parent link="arm4_link_7"/>
    <child link="arm4_link_8"/>
    <axis xyz="1 0 0"/>
    <origin rpy="0 0 0" xyz="0 0 0.03"/>
    <limit effort="10.0" lower="-1.57" upper="1.57" velocity="1.0"/>
  </joint>
  <!-- Create the next link -->
  <link name="arm4_link_9">
    <visual>
      <geometry>
        <cylinder length="0.03" radius="0.01"/>
      </geometry>
      <origin xyz="0 0 0.015"/>
    </visual>
    <collision>
      <geometry>
        <cylinder length="0.03" radius="0.01"/>
      </geometry>
      <origin xyz="0 0 0.015"/>
    </collision>
    <inertial>
      <mass value="0.09090909090909091"/>
      <inertia ixx="9.090909090909091e-06" ixy="0.0" ixz="0.0" iyy="9.090909090909091e-06" iyz="0.0" izz="4.5454545454545455e-06"/>
    </inertial>
  </link>
  <!-- Create the revolute joint -->
  <joint name="arm4_joint_9" type="revolute">
    <parent link="arm4_link_8"/>
    <child link="arm4_link_9"/>
    <axis xyz="1 0 0"/>
    <origin rpy="0 0 0" xyz="0 0 0.03"/>
    <limit effort="10.0" lower="-1.57" upper="1.57" velocity="1.0"/>
  </joint>
  <!-- Create the next link -->
  <link name="arm4_link_10">
    <visual>
      <geometry>
        <cylinder length="0.03" radius="0.01"/>
      </geometry>
      <origin xyz="0 0 0.015"/>
    </visual>
    <collision>
      <geometry>
        <cylinder length="0.03" radius="0.01"/>
      </geometry>
      <origin xyz="0 0 0.015"/>
    </collision>
    <inertial>
      <mass value="0.09090909090909091"/>
      <inertia ixx="9.090909090909091e-06" ixy="0.0" ixz="0.0" iyy="9.090909090909091e-06" iyz="0.0" izz="4.5454545454545455e-06"/>
    </inertial>
  </link>
  <!-- Create the revolute joint -->
  <joint name="arm4_joint_10" type="revolute">
    <parent link="arm4_link_9"/>
    <child link="arm4_link_10"/>
    <axis xyz="1 0 0"/>
    <origin rpy="0 0 0" xyz="0 0 0.03"/>
    <limit effort="10.0" lower="-1.57" upper="1.57" velocity="1.0"/>
  </joint>
  <link name="arm4_sphere">
    <visual>
      <geometry>
        <sphere radius="0.01"/>
      </geometry>
      <origin xyz="0 0 0.01"/>
    </visual>
    <collision>
      <geometry>
        <sphere radius="0.01"/>
      </geometry>
      <origin xyz="0 0 0.01"/>
    </collision>
    <inertial>
      <mass value="0.09090909090909091"/>
      <inertia ixx="3.6363636363636366e-06" ixy="0.0" ixz="0.0" iyy="3.6363636363636366e-06" iyz="0.0" izz="3.6363636363636366e-06"/>
    </inertial>
  </link>
  <joint name="arm4_fixed_joint_sphere" type="fixed">
    <parent link="arm4_link_10"/>
    <child link="arm4_sphere"/>
    <origin rpy="0 0 0" xyz="0 0 0.019999999999999997"/>
  </joint>
  <joint name="arm1_joint" type="fixed">
    <parent link="drone_base"/>
    <child link="arm1_base"/>
  </joint>
  <joint name="arm2_joint" type="fixed">
    <parent link="drone_base"/>
    <child link="arm2_base"/>
  </joint>
  <joint name="arm3_joint" type="fixed">
    <parent link="drone_base"/>
    <child link="arm3_base"/>
  </joint>
  <joint name="arm4_joint" type="fixed">
    <parent link="drone_base"/>
    <child link="arm4_base"/>
  </joint>
</robot>
